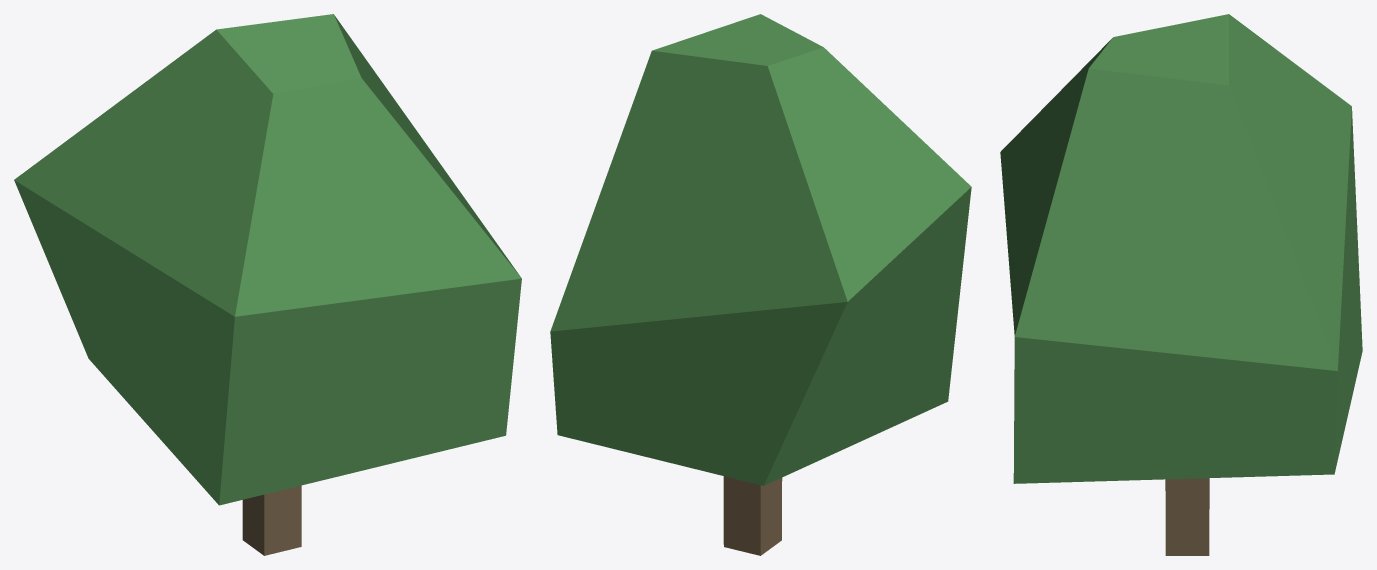
File: tree_03.fbx
3 views of the same model, side by side, from view 1: azimuth 30°, elevation 25°; view 2: azimuth 150°, elevation 25°; view 3: azimuth 270°, elevation 25° (orthographic). The views are drawn at different scales.
Parts seen in each view (by area): view 1: pasted__pasted__pCube6; view 2: pasted__pasted__pCube6; view 3: pasted__pasted__pCube6.
Part boxes in pixels (x1,y1,x2,y2): pasted__pasted__pCube6: [14, 14, 521, 555]; pasted__pasted__pCube6: [550, 14, 971, 555]; pasted__pasted__pCube6: [1000, 14, 1362, 555].
Bounding box in the file's own units: 0.5881 × 0.8348 × 0.5321.
